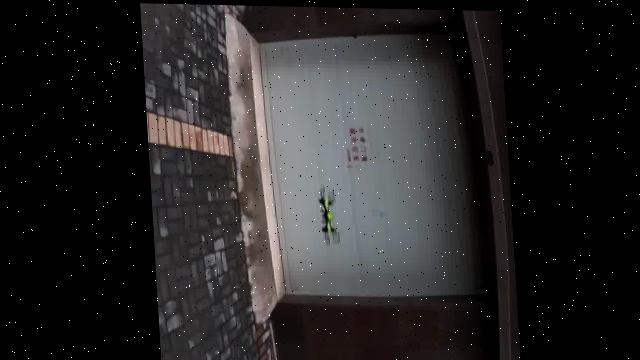drone: (304, 183, 345, 252)
